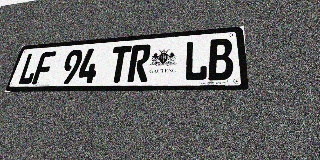4: (76, 48, 101, 83)
9: (59, 49, 84, 84)
B: (208, 38, 234, 81)
F: (31, 51, 56, 84)
L: (183, 40, 207, 81), (17, 52, 41, 85)
R: (127, 44, 151, 82)
T: (107, 45, 132, 83)
